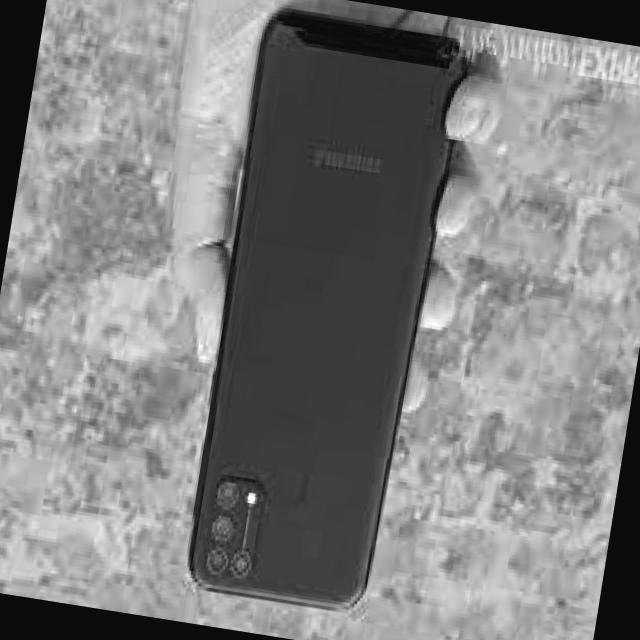lens: (198, 472, 265, 580)
phone: (183, 0, 472, 623)
